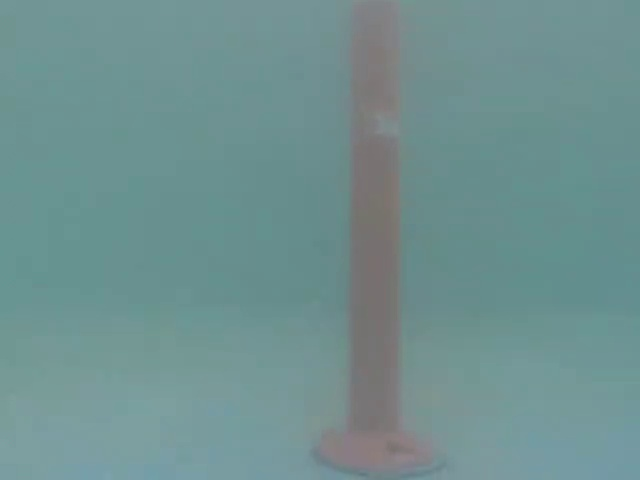flare: (311, 2, 447, 480)
